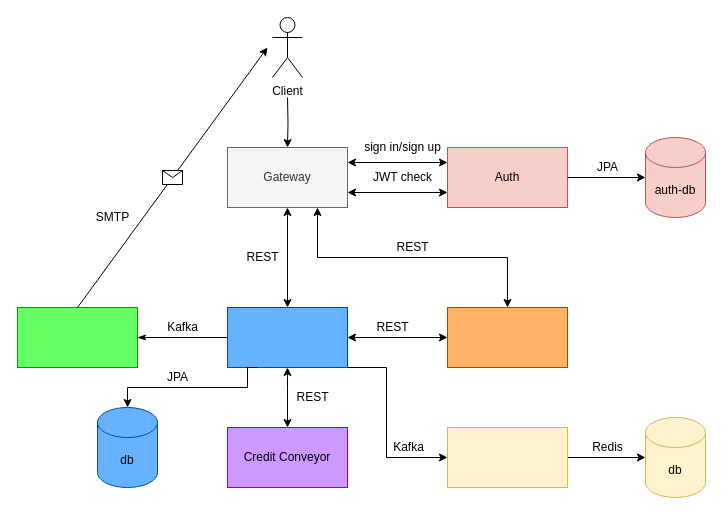
The diagram is 723 pixels wide and 515 high, and some of its shapes have lost their labels. Here are the shapes that lost their labels. From the top down, the centre of each, then its label:
At point 77,337: "Dossier".
At point 287,337: "Deal".
At point 507,337: "Application".
At point 507,457: "Audit".
